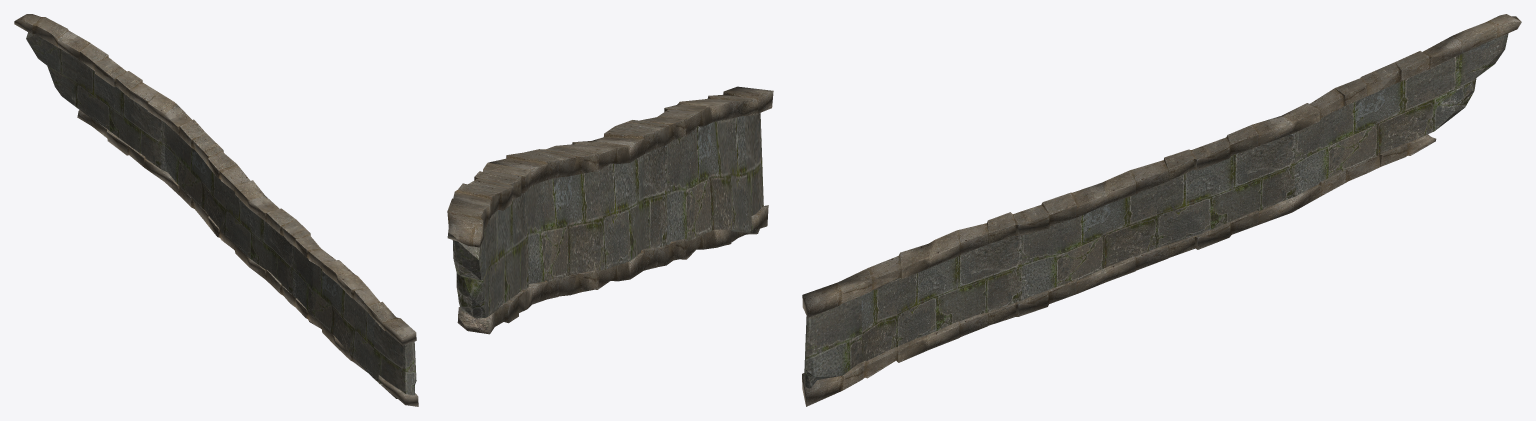
The model's file is bg_anh_gvalley_sa01_08_sm_cwk.FBX.
3 renders of one model, left to right at view 1: azimuth 30°, elevation 25°; view 2: azimuth 150°, elevation 25°; view 3: azimuth 270°, elevation 25°, orthographic. The views are drawn at different scales.
Visible parts, largest first — view 1: bg_anh_gvalley_sa01_08_sm_cwk; view 2: bg_anh_gvalley_sa01_08_sm_cwk; view 3: bg_anh_gvalley_sa01_08_sm_cwk.
Boxes of the visible parts, x1,y1,x2,y2 form: bg_anh_gvalley_sa01_08_sm_cwk: (14, 14, 418, 406); bg_anh_gvalley_sa01_08_sm_cwk: (447, 86, 773, 334); bg_anh_gvalley_sa01_08_sm_cwk: (802, 14, 1521, 406).
Size of the model in its own units: 277 by 441 by 935.
